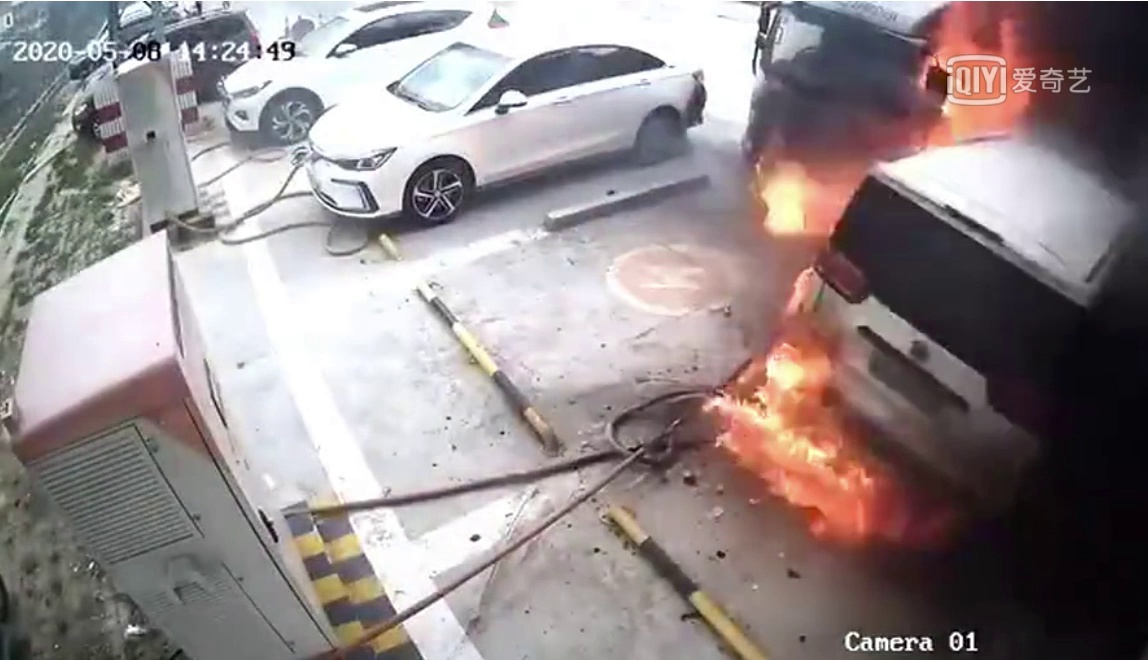fire: (715, 331, 953, 564), (740, 63, 1023, 207)
